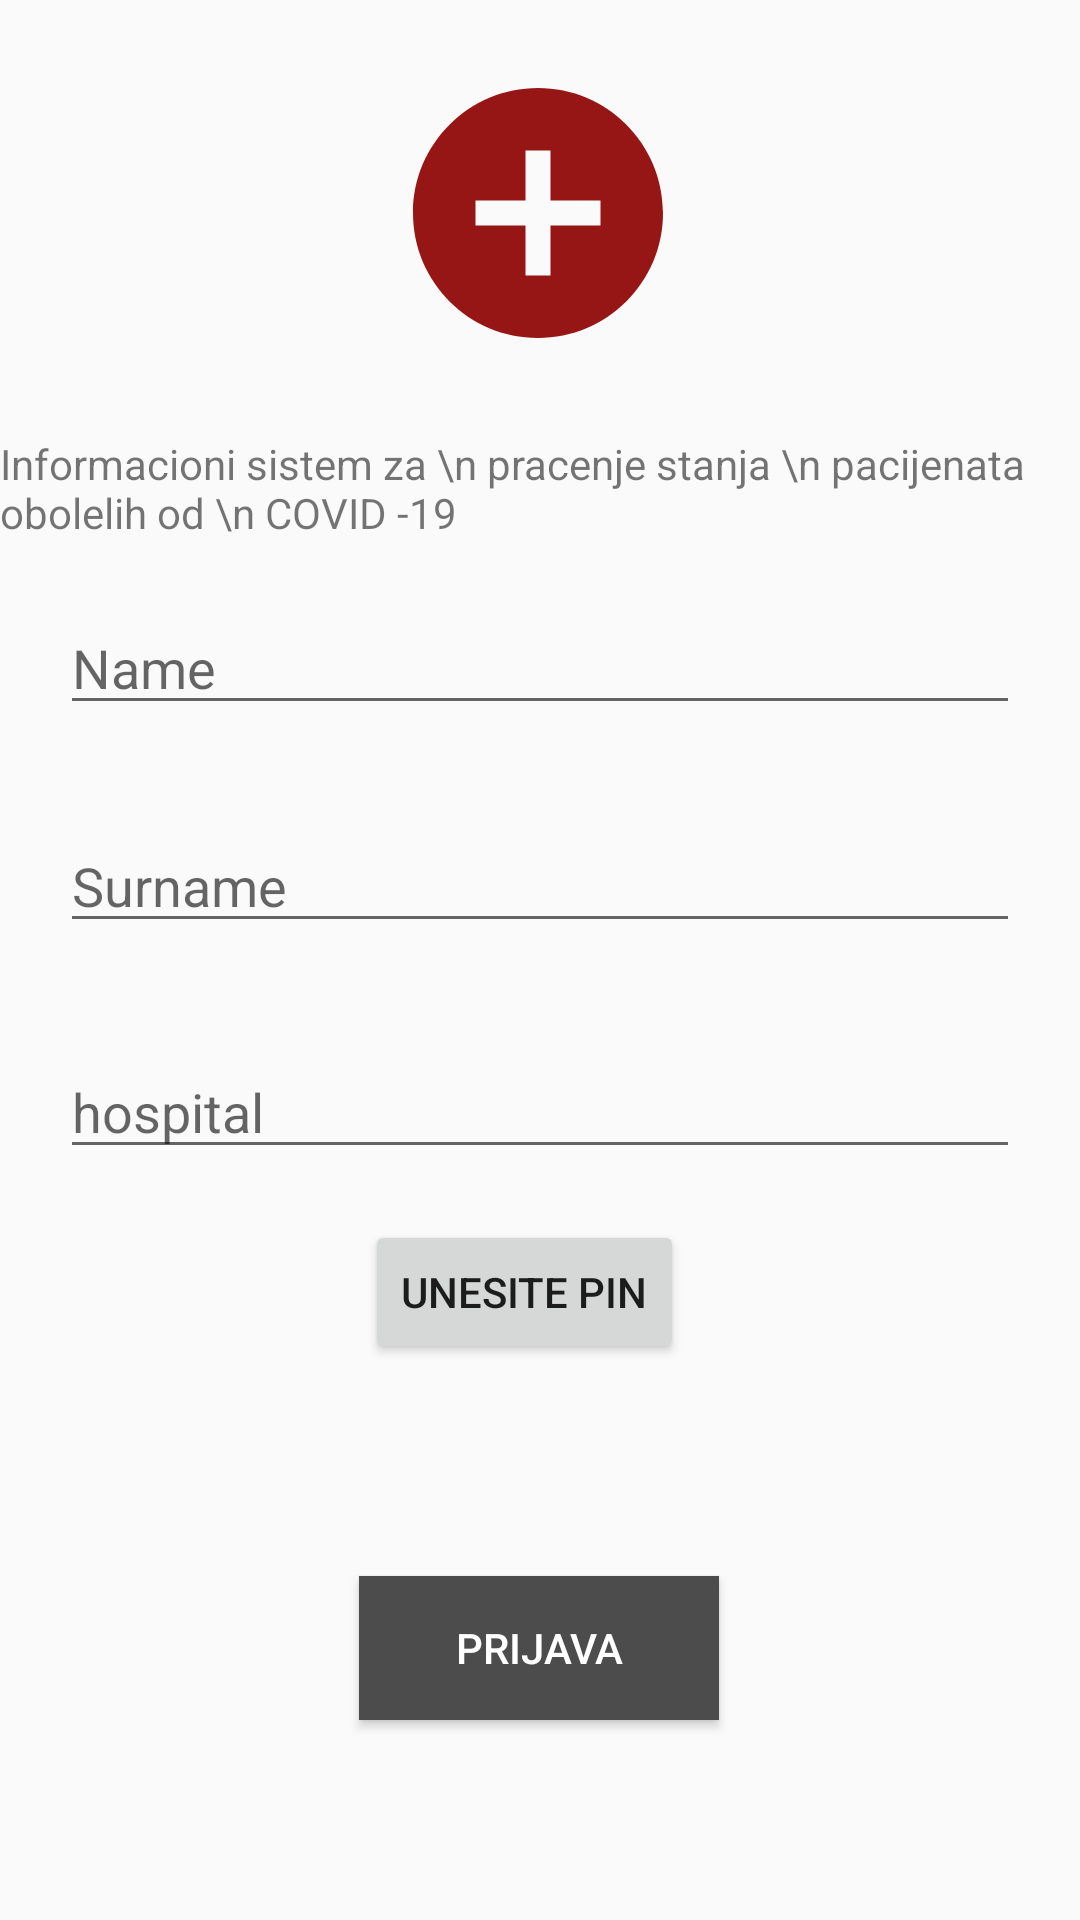

Named icons in this screenshot (1080x1920) and their centers, [x,y]:
add: [538,213]
